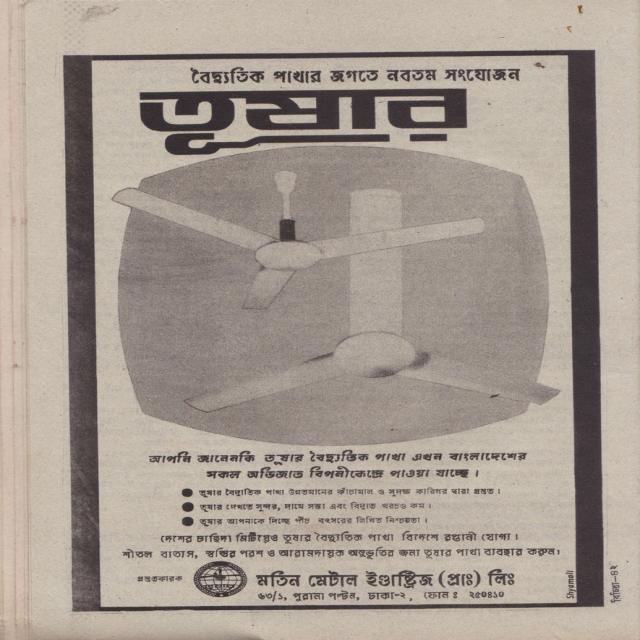advertisement: (68, 52, 604, 609)
page number: (607, 559, 621, 578)
text: (608, 583, 626, 604)
